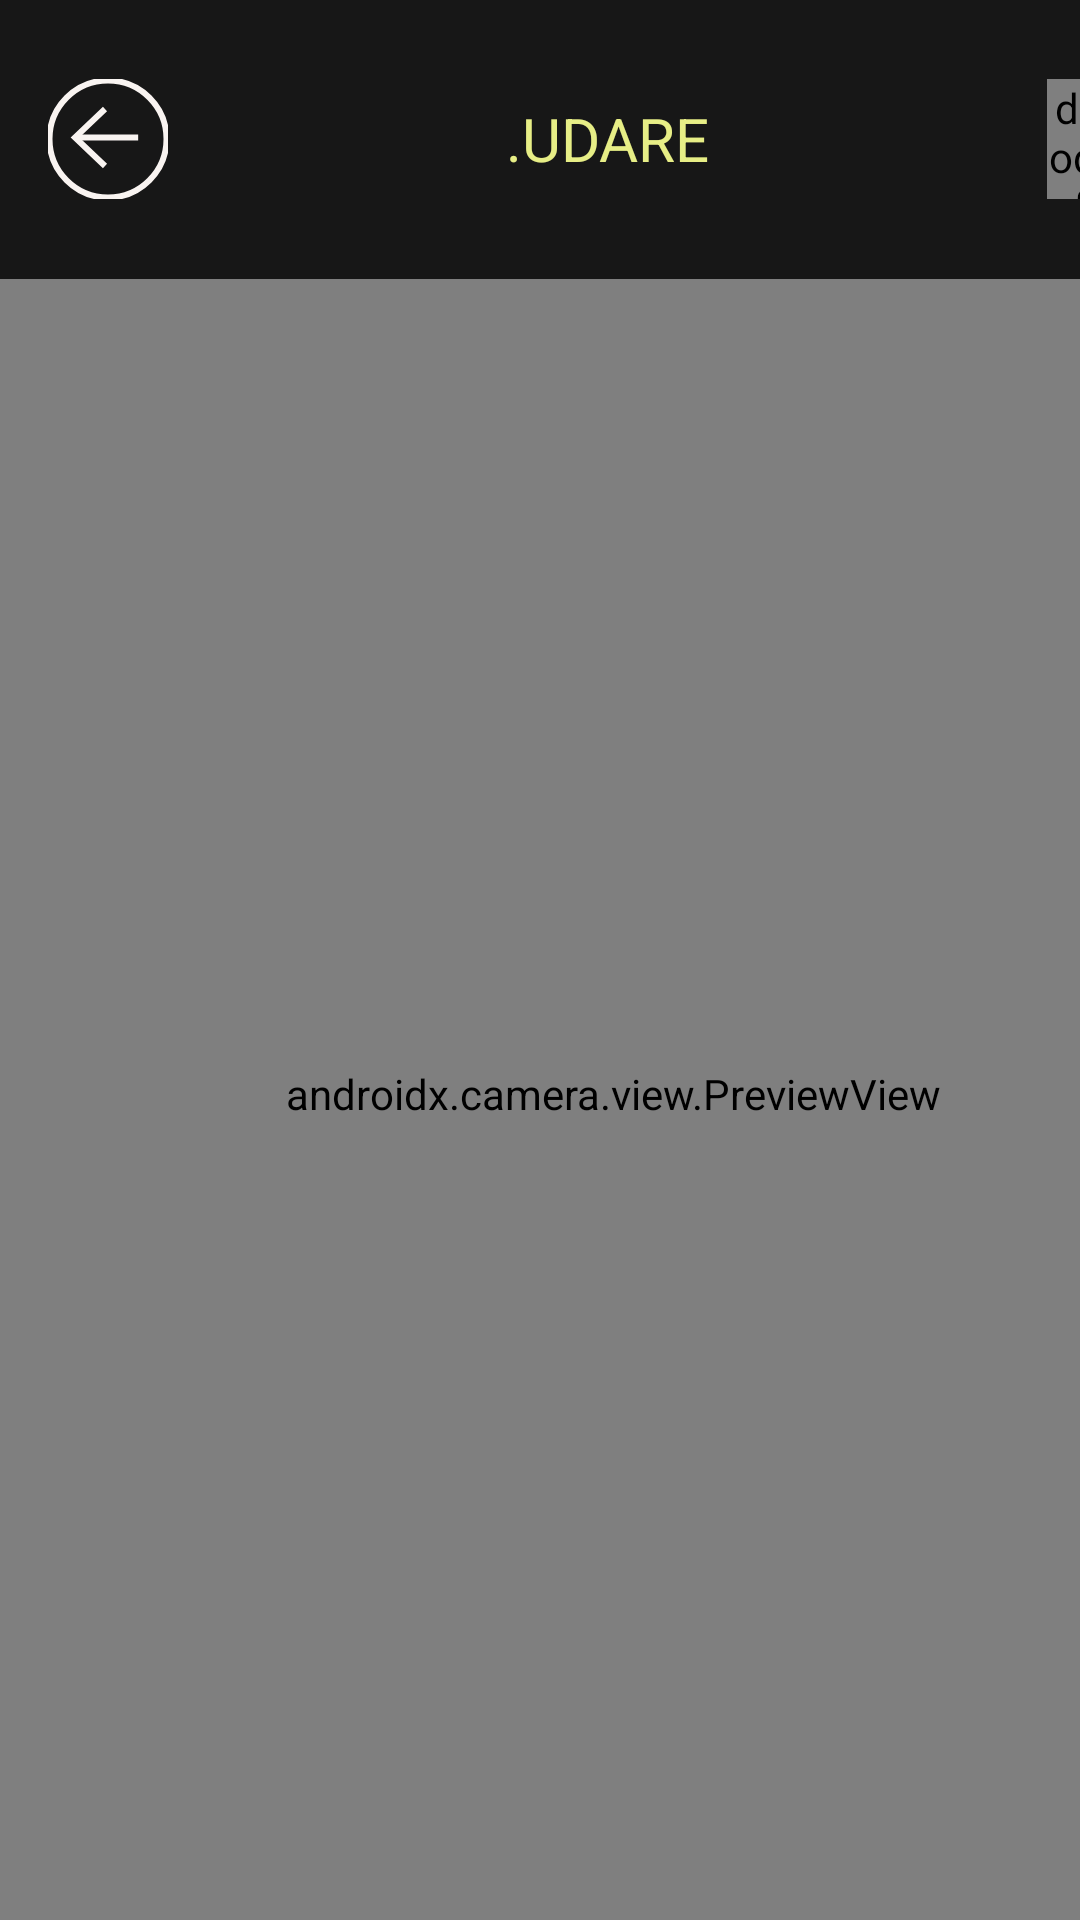

Named icons in this screenshot (1080px×1920px) and their centers, (x,y):
flecharound: (108,139)
